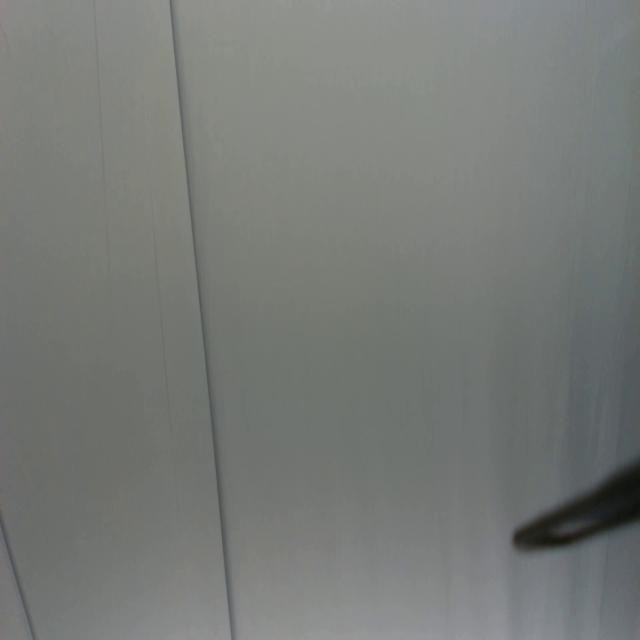crease: (166, 0, 238, 640), (146, 173, 184, 522), (89, 0, 114, 290), (0, 514, 36, 639)
